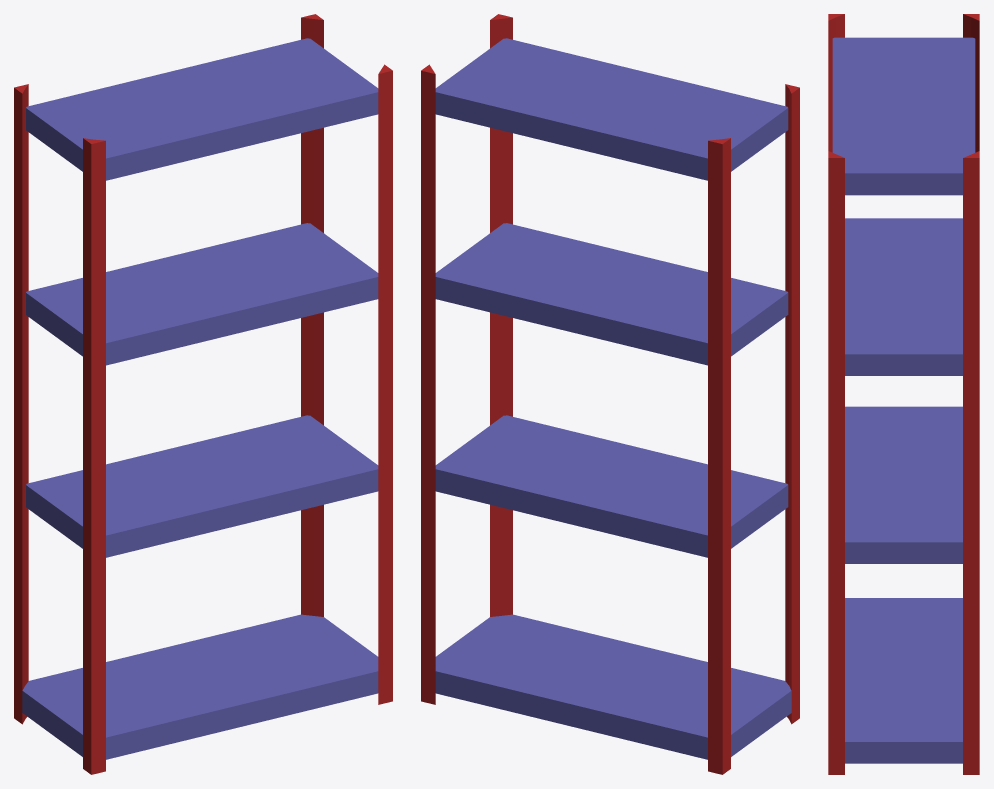
Rendered from 3D_Estanteria_Metal.fbx.
The picture shows the model from 3 angles, left to right: view 1: azimuth 30°, elevation 25°; view 2: azimuth 150°, elevation 25°; view 3: azimuth 270°, elevation 25°; orthographic projection. The views are drawn at different scales.
Parts seen in each view (by area): view 1: EstanteriaMetal; view 2: EstanteriaMetal; view 3: EstanteriaMetal.
Part boxes in pixels (box(x1,y1,x2,y2)): EstanteriaMetal: box(14, 14, 392, 774); EstanteriaMetal: box(421, 14, 799, 774); EstanteriaMetal: box(828, 14, 979, 774).
Size of the model in its own units: 90 by 180 by 40.
